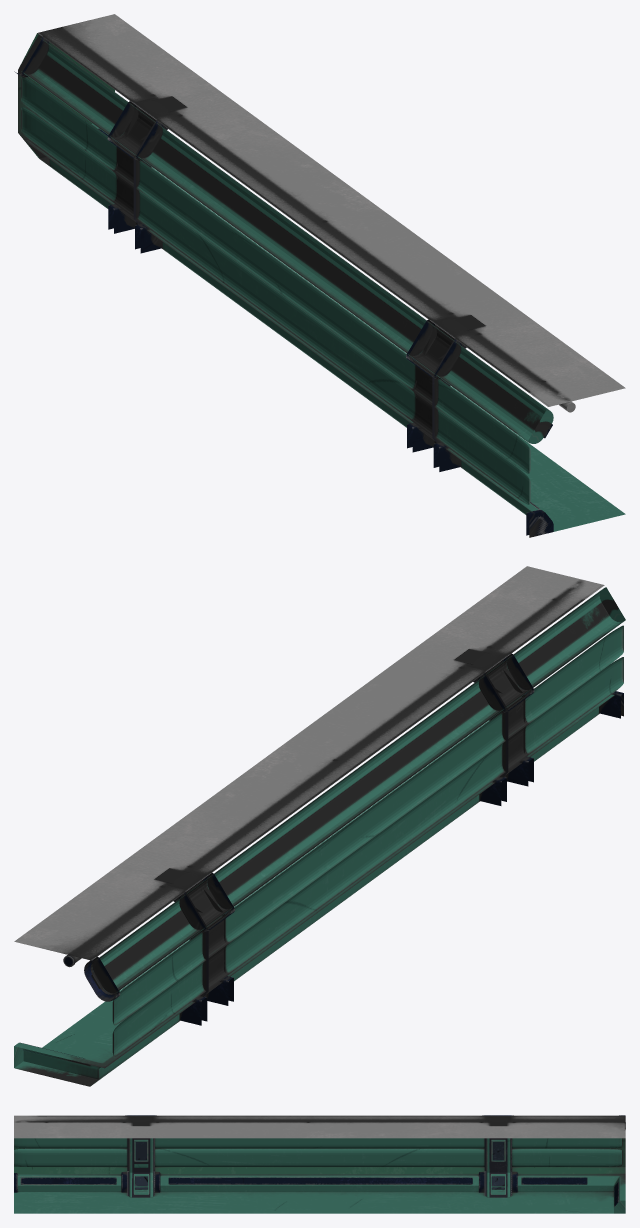
3 views of the same model, one above another, from view 1: azimuth 30°, elevation 25°; view 2: azimuth 150°, elevation 25°; view 3: azimuth 270°, elevation 25° (orthographic). The views are drawn at different scales.
Visible parts, largest first — view 1: polySurface355, polySurface353, polySurface359, polySurface303, polySurface358; view 2: polySurface355, polySurface353, polySurface359, polySurface303; view 3: polySurface355, polySurface353, polySurface358, polySurface359, polySurface303, polySurface311.
Part boxes in pixels (x1,y1,x2,y2): polySurface355: [21, 38, 625, 531]; polySurface353: [37, 14, 625, 412]; polySurface359: [14, 33, 553, 537]; polySurface303: [133, 107, 484, 443]; polySurface358: [18, 33, 114, 158]; polySurface355: [14, 587, 625, 1086]; polySurface353: [14, 566, 604, 962]; polySurface359: [20, 653, 623, 1066]; polySurface303: [154, 660, 508, 996]; polySurface355: [14, 1138, 625, 1213]; polySurface353: [14, 1115, 625, 1138]; polySurface358: [14, 1138, 625, 1174]; polySurface359: [14, 1115, 625, 1206]; polySurface303: [127, 1138, 511, 1197]; polySurface311: [135, 1142, 504, 1189].
Bounding box in the file's own units: 14.62 × 17.62 × 128.
Materials: 1 (1 with a texture image).
